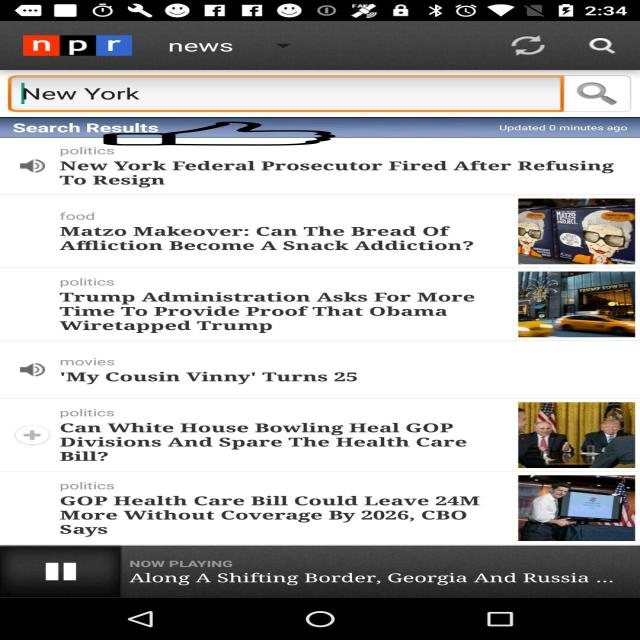privacy zuckering: (100, 122, 339, 146)
